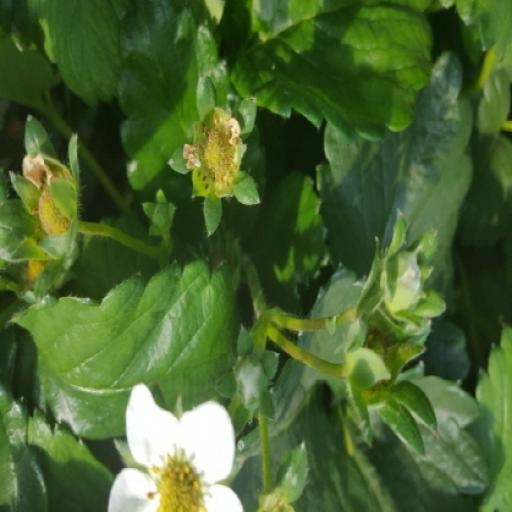Blossom Blight: (270, 320, 335, 405)
